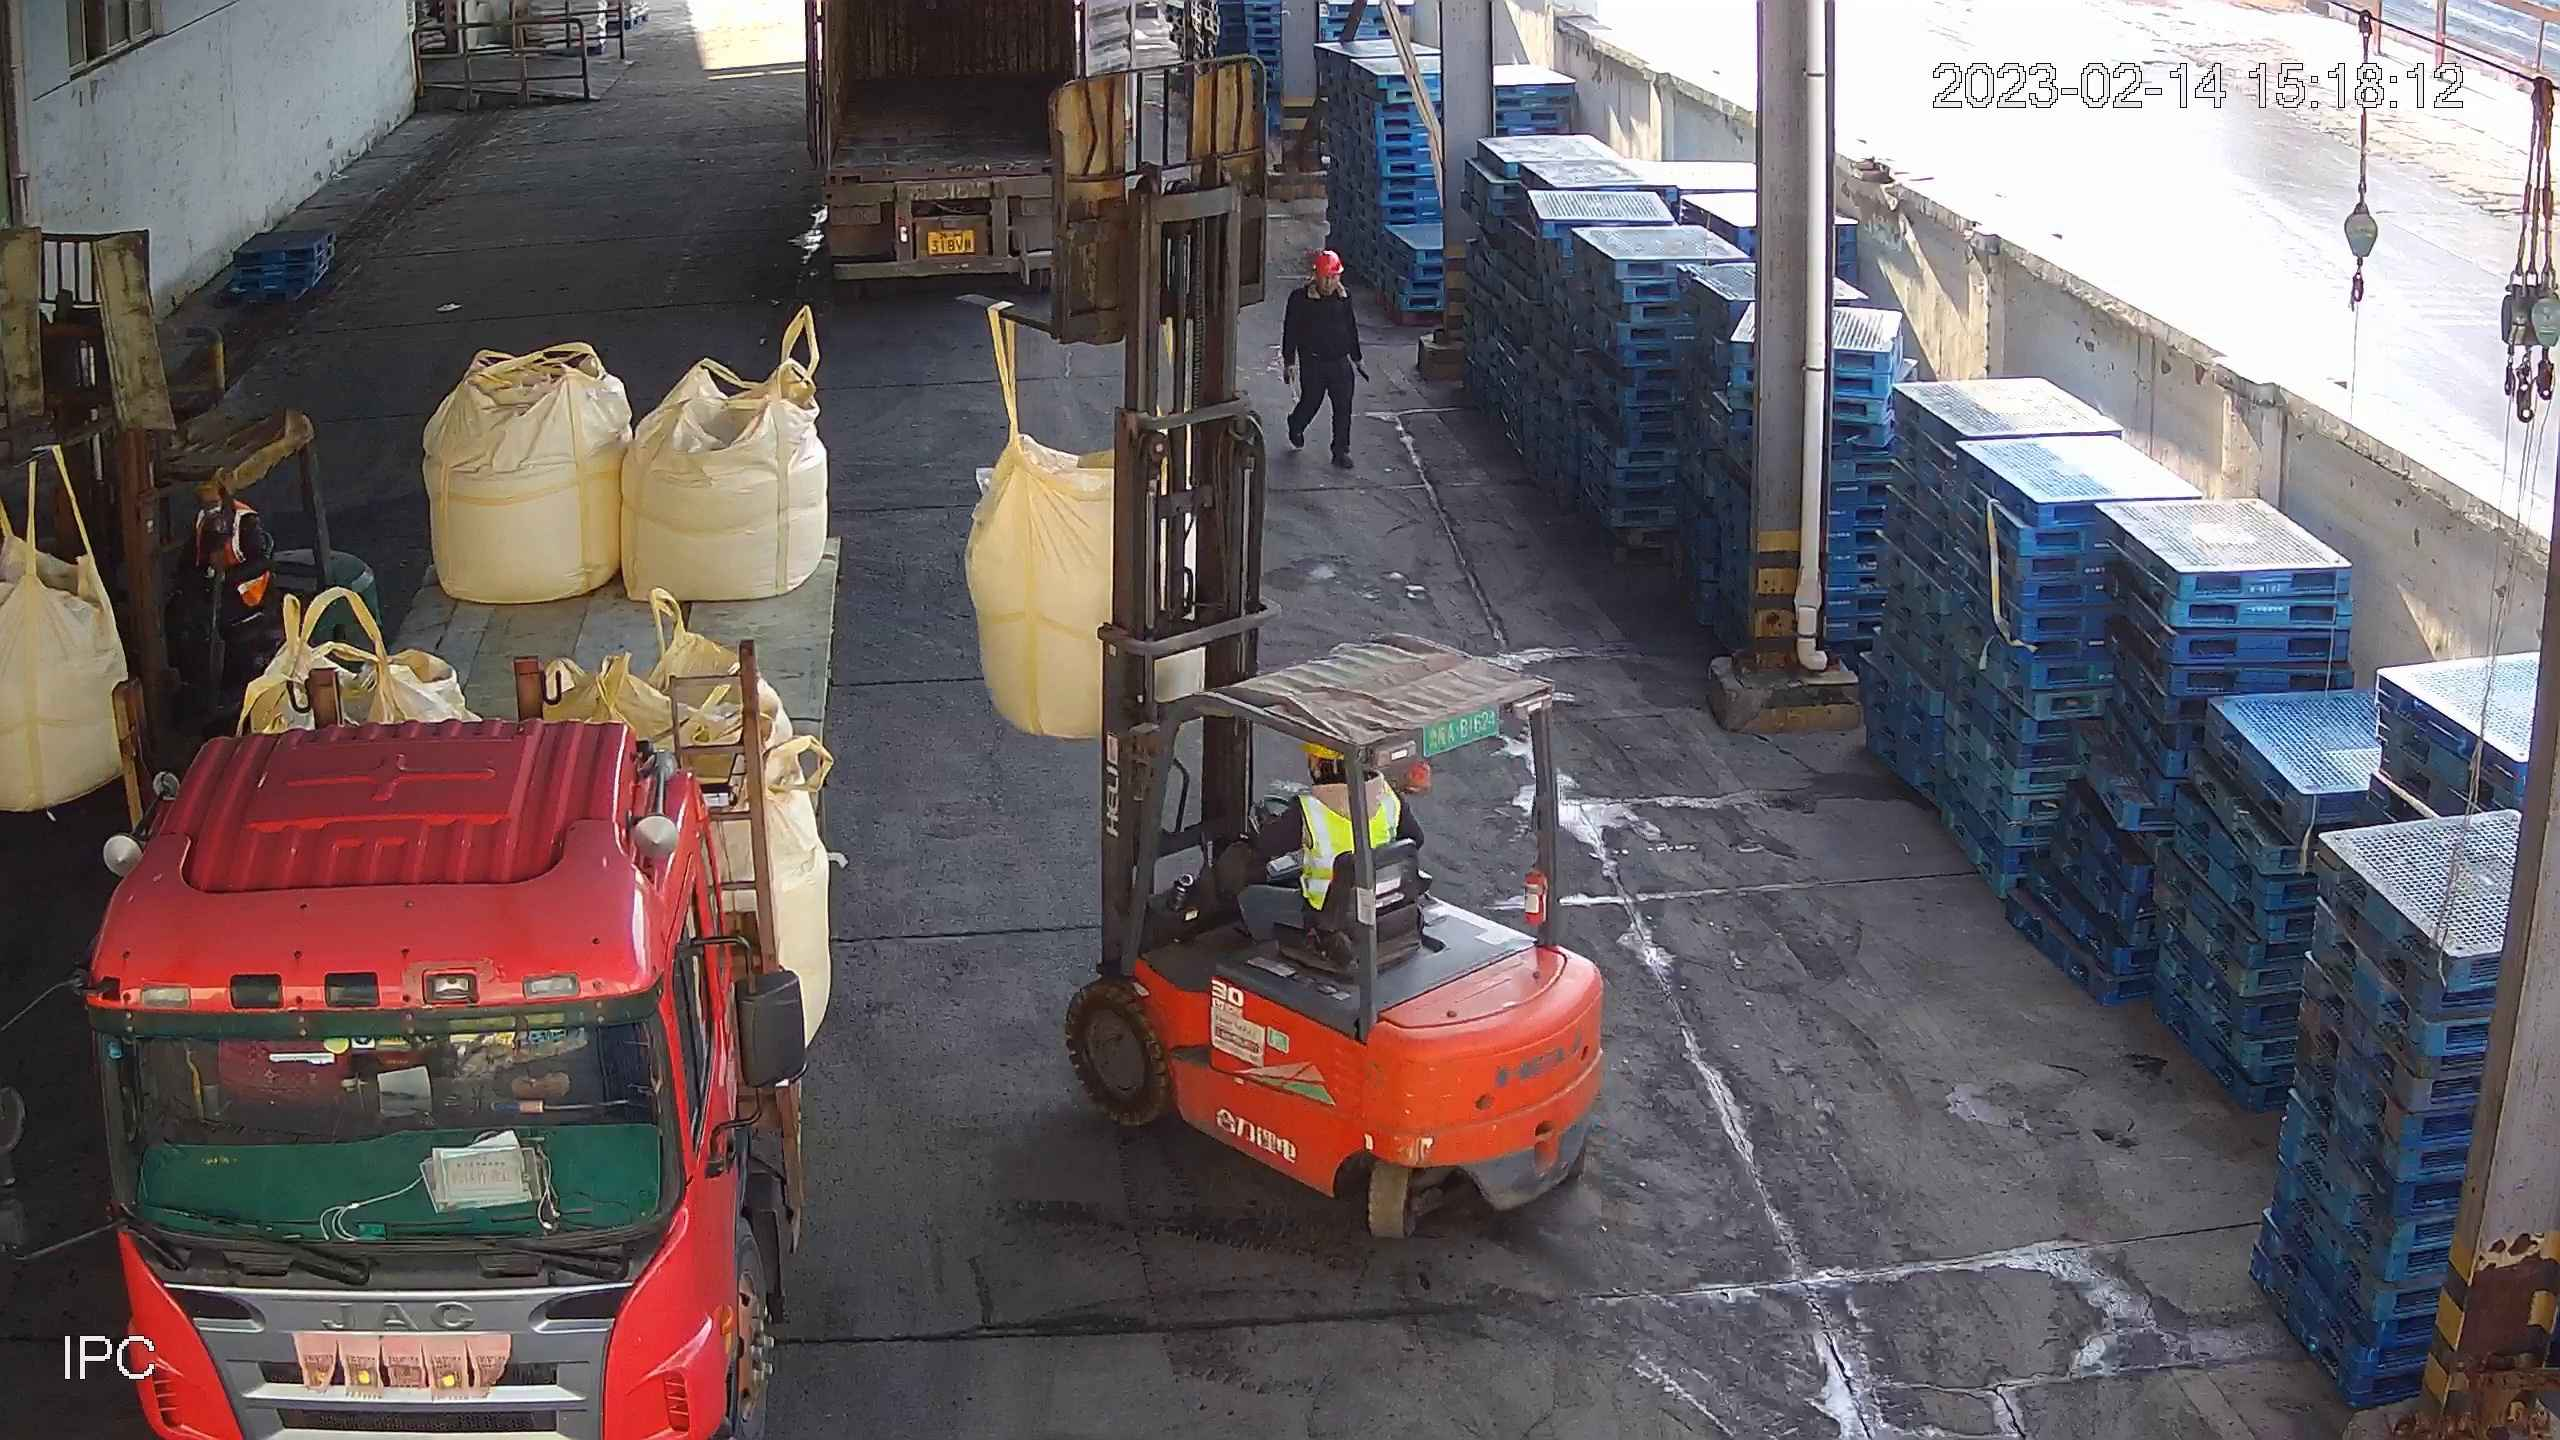head: (1287, 248, 1354, 328)
helmet: (1313, 251, 1345, 275)
people: (1213, 742, 1423, 961), (159, 483, 279, 681), (1282, 248, 1371, 474)
truck: (73, 523, 847, 1440), (805, 1, 1142, 294)
